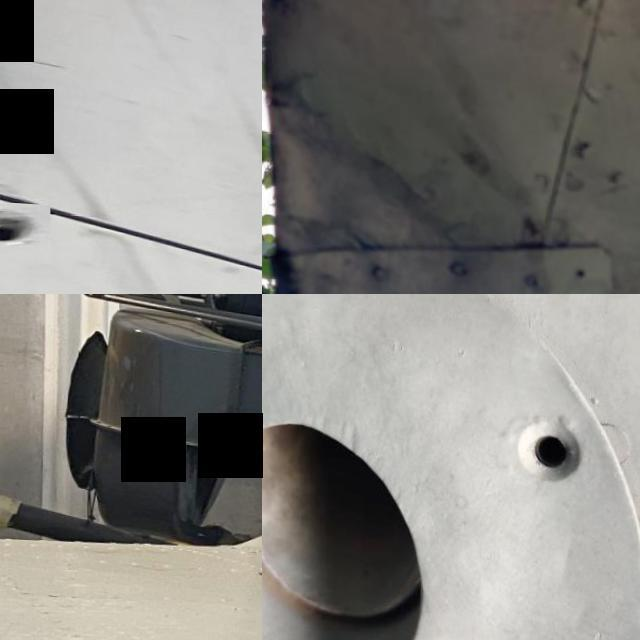Dent: (262, 62, 474, 289)
Missing_Fastener: (488, 382, 605, 510), (0, 197, 47, 260)
